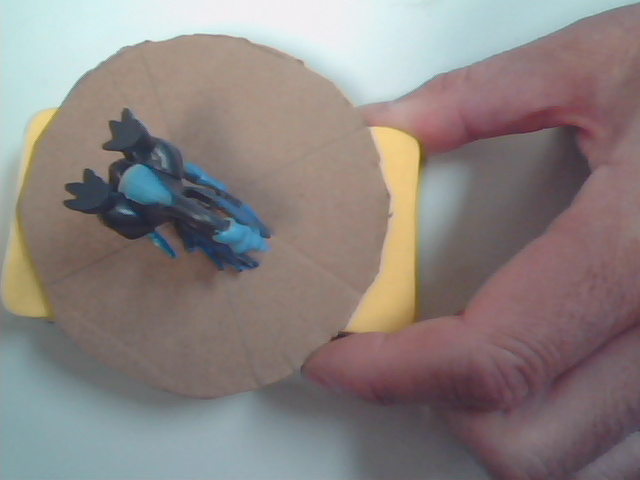charizard: (55, 99, 293, 327)
